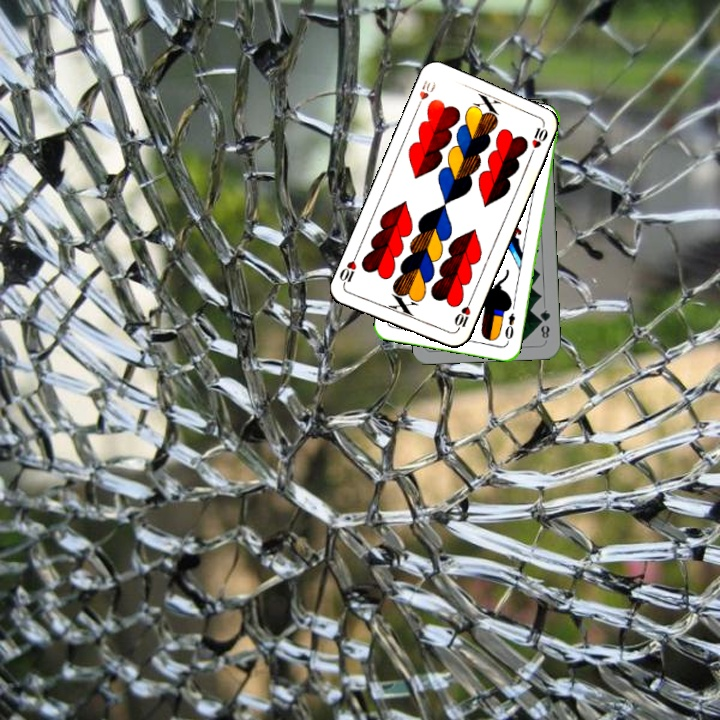EO: (501, 309, 517, 346)
G8: (535, 306, 553, 343)
H10: (450, 296, 474, 335), (412, 77, 438, 113)
